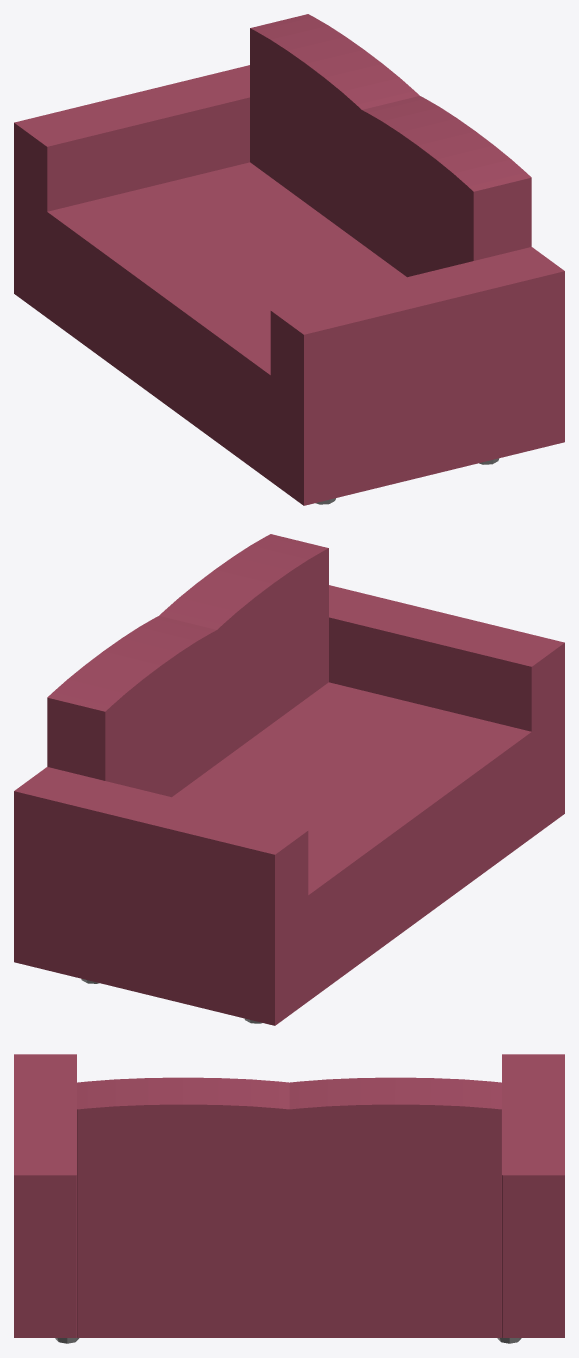
File: Couch.fbx
The picture shows the model from 3 angles, top to bottom: view 1: azimuth 30°, elevation 25°; view 2: azimuth 150°, elevation 25°; view 3: azimuth 270°, elevation 25°; orthographic projection. The views are drawn at different scales.
Visible parts, largest first — view 1: Cube; view 2: Cube; view 3: Cube.
Boxes of the visible parts, x1=… form: Cube: x1=14, y1=14, x2=564, y2=505; Cube: x1=14, y1=534, x2=564, y2=1025; Cube: x1=14, y1=1054, x2=564, y2=1343.
Bounding box in the file's own units: 97.76 × 97.06 × 188.
